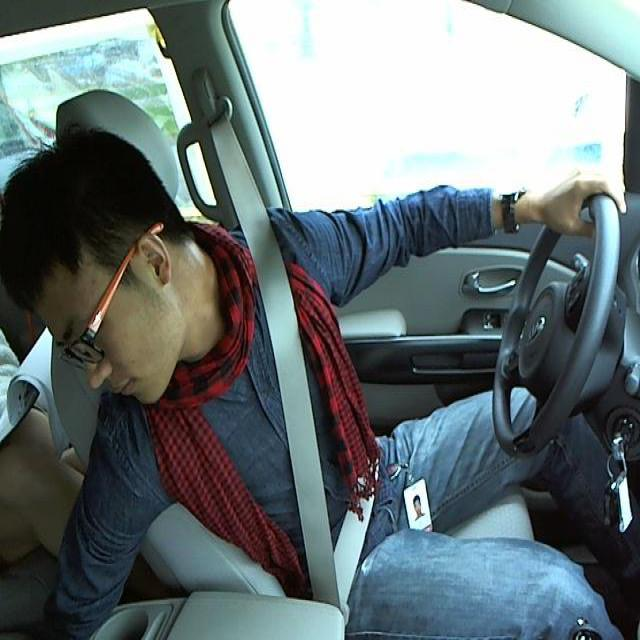seatbelt: (243, 250, 391, 602)
